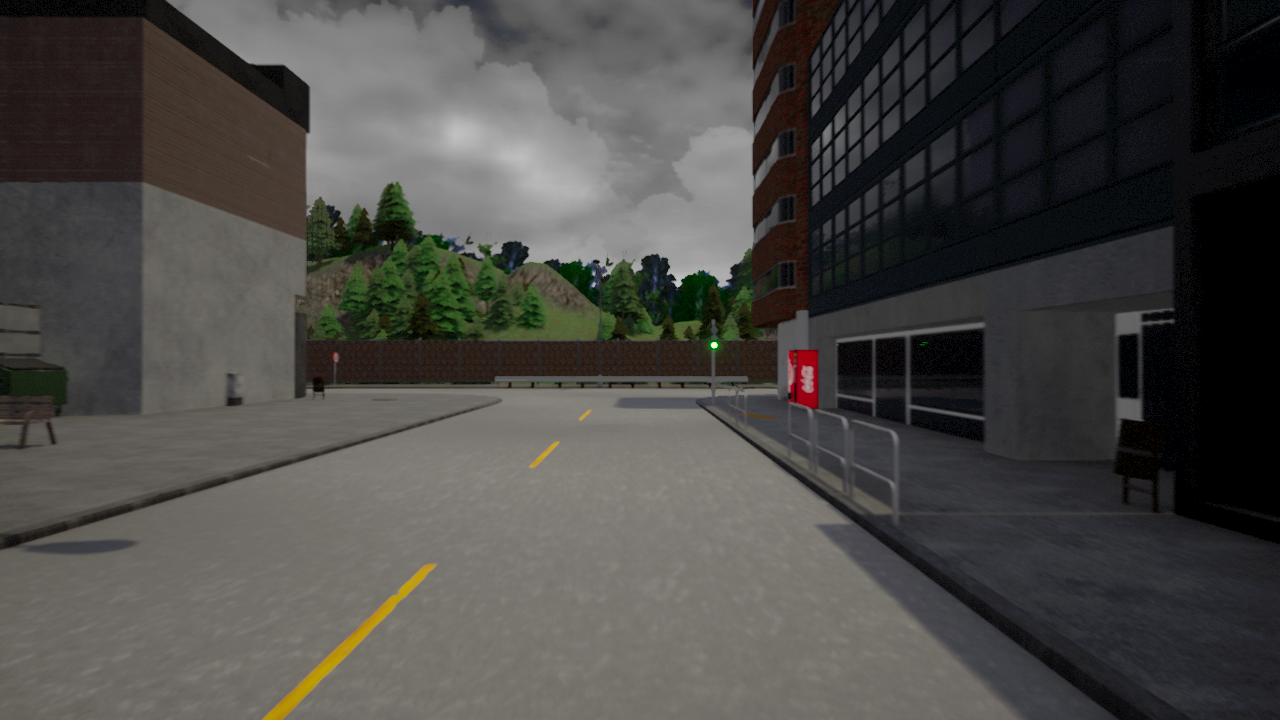green: (709, 324, 719, 349)
